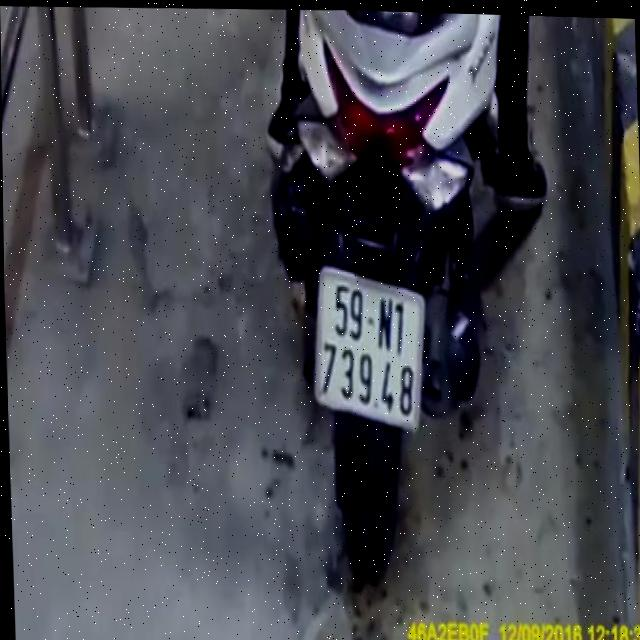motorcycle: (259, 8, 510, 591)
plate: (305, 258, 437, 439)
